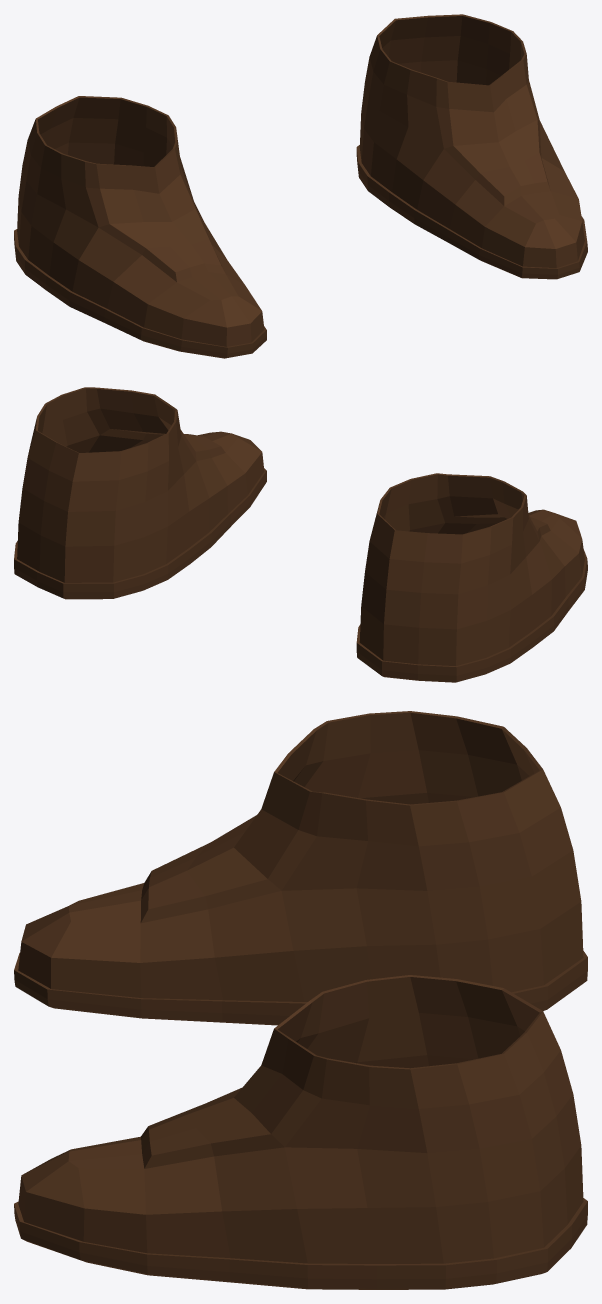
Rendered from Shoes2.fbx.
3 renders of one model, top to bottom at view 1: azimuth 30°, elevation 25°; view 2: azimuth 150°, elevation 25°; view 3: azimuth 270°, elevation 25°, orthographic. The views are drawn at different scales.
Visible parts, largest first — view 1: Shoes2; view 2: Shoes2; view 3: Shoes2.
Boxes of the visible parts, x1=… form: Shoes2: x1=14, y1=14, x2=587, y2=358; Shoes2: x1=14, y1=387, x2=587, y2=682; Shoes2: x1=14, y1=711, x2=587, y2=1289.
Size of the model in its own units: 95.08 by 25.95 by 61.85.
